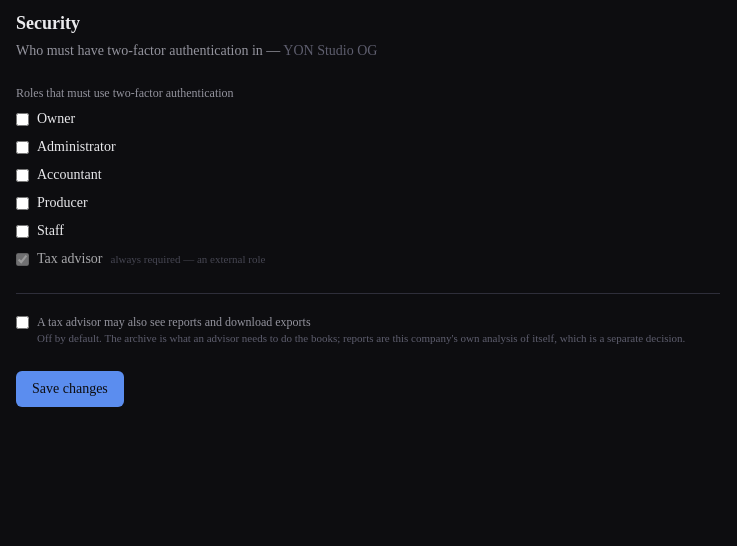
Security screen — the consequence of requiring 2FA › warns the moment the box is ticked, before any save
This screenshot has width=737, height=546.
What coordinates should you click on to do the following:
click the checkbox labelled "Producer"
I would click on:
 (22, 203)
Its box is [16, 196, 29, 210].
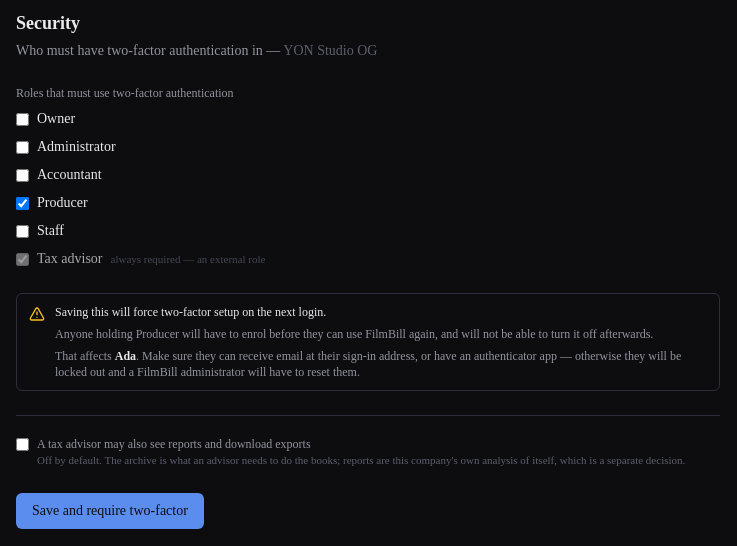
Expected: the message with test id "require-2fa-consequence" shows "force two-factor setup", [55, 305, 326, 319]
Expected: the message with test id "require-2fa-consequence" shows "will not be able to turn it off", [182, 327, 653, 341]
